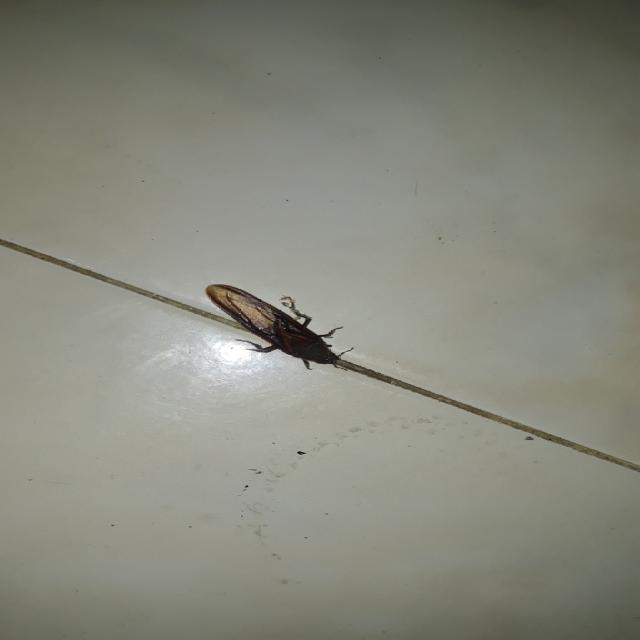Alive-Female-Alate: (205, 284, 354, 371)
